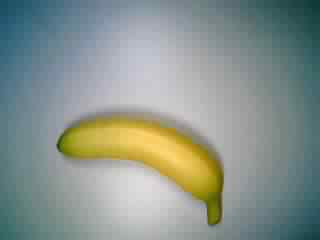banana: (56, 115, 226, 228)
